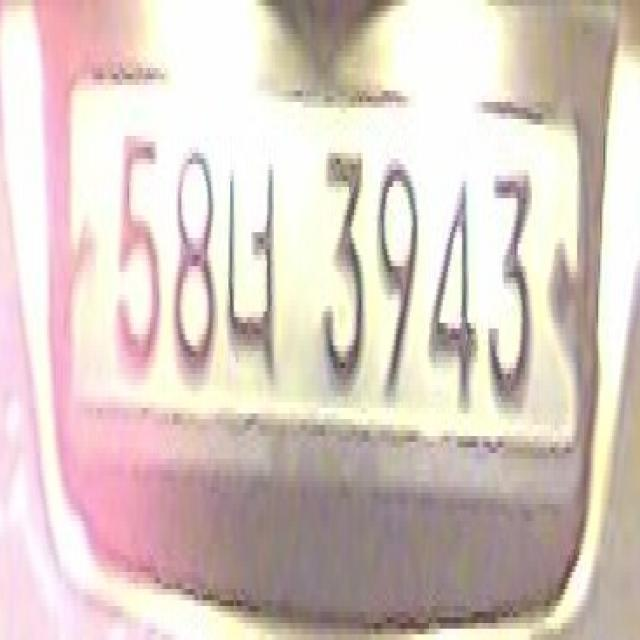3: (482, 142, 538, 424), (317, 121, 368, 388)
4: (426, 144, 478, 414)
5: (110, 119, 162, 373)
8: (168, 121, 219, 372)
9: (372, 128, 422, 407)
license_plate: (64, 48, 589, 482)
neo: (226, 128, 284, 369)
